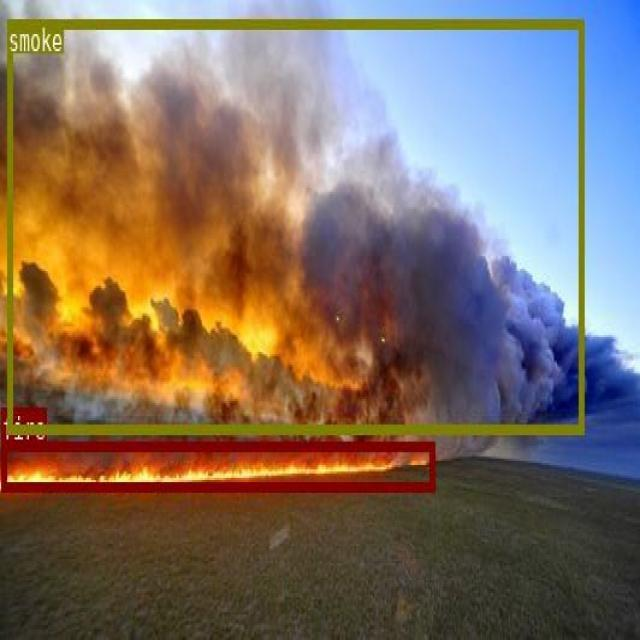fire: (1, 441, 434, 490)
smoke: (6, 19, 583, 431)
